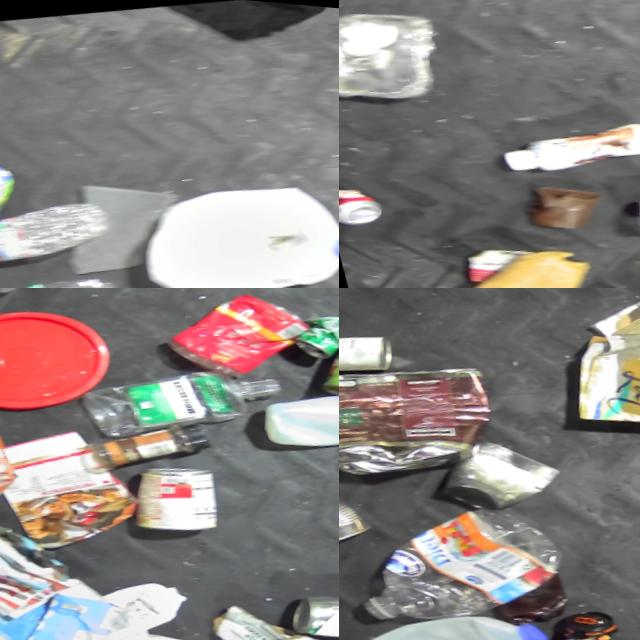can: (339, 338, 505, 492), (424, 421, 562, 519), (117, 446, 224, 537), (339, 310, 400, 396), (271, 569, 339, 640), (302, 311, 339, 400), (339, 465, 372, 561), (285, 297, 339, 355), (339, 175, 378, 231)
milk_jug: (119, 153, 339, 288), (339, 586, 554, 640), (248, 361, 339, 455)
non_white_jug: (0, 557, 128, 640)
plastic_bottle: (339, 481, 571, 638), (69, 343, 289, 443), (0, 187, 116, 275), (0, 261, 126, 288)
